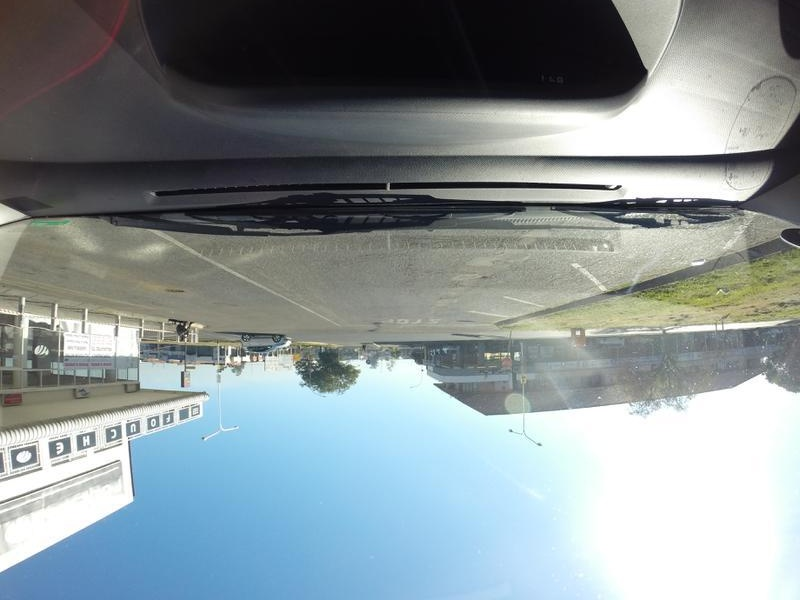pothole: (453, 271, 486, 285), (159, 289, 183, 297)
